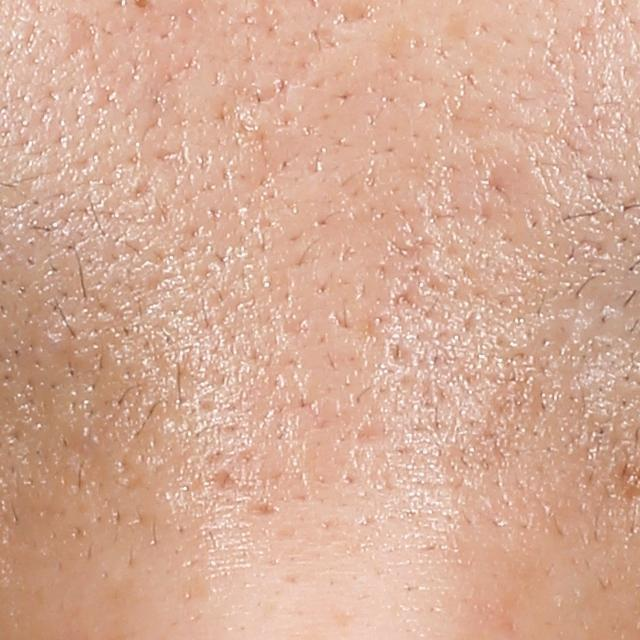atrophic_scar: (64, 11, 98, 59), (212, 468, 247, 496), (339, 2, 381, 25), (249, 502, 287, 521)
